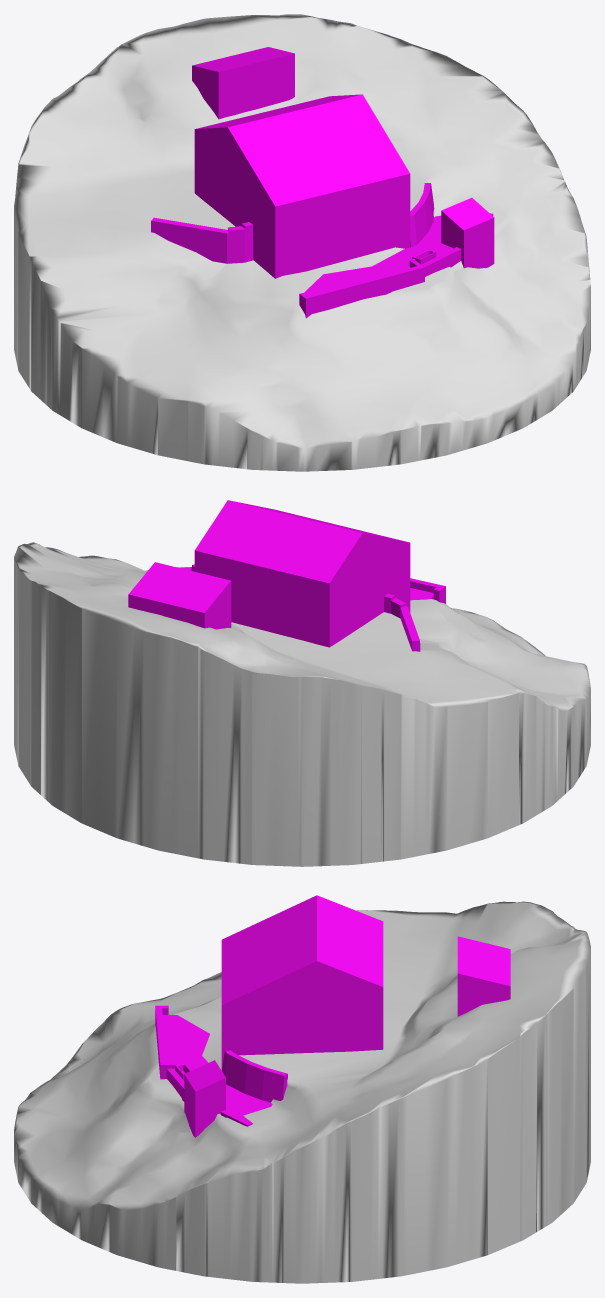
3 renders of one model, top to bottom at view 1: azimuth 30°, elevation 25°; view 2: azimuth 150°, elevation 25°; view 3: azimuth 270°, elevation 25°, orthographic.
Visible parts, largest first — view 1: Geometry214, Geometry243, Geometry226, Geometry211, Geometry213, Geometry208, Geometry229, Geometry231, Geometry233, Geometry223, Geometry215, Geometry238; view 2: Geometry214, Geometry243, Geometry231, Geometry225, Geometry233, Geometry208; view 3: Geometry214, Geometry243, Geometry213, Geometry231, Geometry232, Geometry228, Geometry212, Geometry234, Geometry235, Geometry211, Geometry229.
Boxes of the visible parts, x1,y1,x2,y2 form: Geometry214: (14, 14, 590, 471); Geometry243: (194, 94, 410, 278); Geometry226: (217, 53, 294, 119); Geometry211: (302, 265, 424, 318); Geometry213: (304, 215, 453, 294); Geometry208: (151, 217, 227, 263); Geometry229: (461, 216, 491, 268); Geometry231: (196, 48, 289, 70); Geometry233: (193, 65, 218, 116); Geometry223: (227, 226, 244, 263); Geometry215: (447, 201, 488, 226); Geometry238: (421, 247, 461, 276); Geometry214: (14, 542, 590, 866); Geometry243: (194, 500, 410, 647); Geometry231: (132, 564, 226, 610); Geometry225: (128, 593, 205, 628); Geometry233: (203, 582, 229, 629); Geometry208: (400, 606, 420, 651); Geometry214: (14, 901, 590, 1283); Geometry243: (221, 895, 383, 1070); Geometry213: (162, 1015, 272, 1122); Geometry231: (460, 938, 507, 984); Geometry232: (460, 973, 507, 1015); Geometry228: (194, 1078, 222, 1137); Geometry212: (262, 1068, 287, 1102); Geometry234: (225, 1052, 250, 1093); Geometry235: (244, 1062, 267, 1099); Geometry211: (155, 1005, 166, 1079); Geometry229: (184, 1072, 197, 1136).
Bounding box in the file's own units: 40 × 17.87 × 40.
